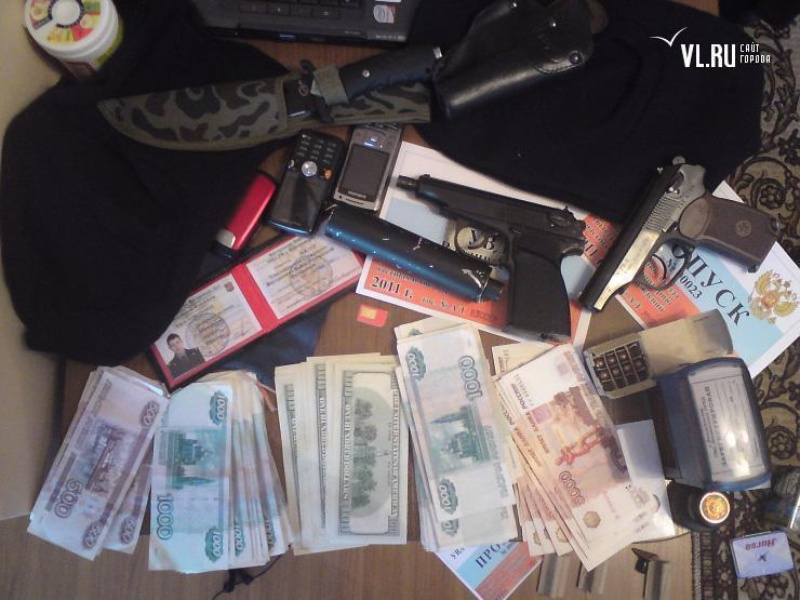cash: (492, 342, 662, 570), (148, 370, 290, 570), (24, 365, 171, 557), (394, 318, 517, 545), (273, 354, 409, 554)
weapon: (579, 154, 780, 313), (395, 173, 587, 339)
